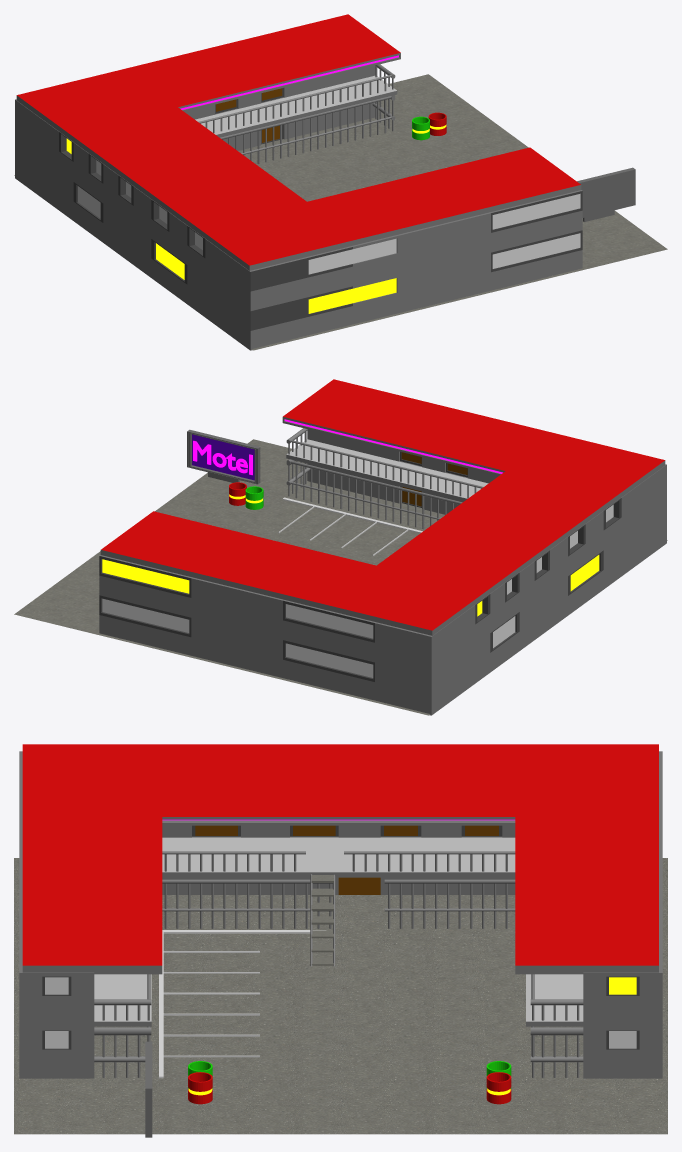
3 views of the same model, one above another, from view 1: azimuth 30°, elevation 25°; view 2: azimuth 150°, elevation 25°; view 3: azimuth 270°, elevation 25° (orthographic). The views are drawn at different scales.
Parts seen in each view (by area): view 1: motel_8, PISO_5, Cube.002_3, cerca.002_1, cerca.001_0, trash_cubet_7; view 2: motel_8, PISO_5, Cube.002_3, cerca.002_1, cerca.001_0, parqueadero_4, trash_cubet_7, Text_2; view 3: motel_8, PISO_5, cerca.002_1, cerca.001_0, parqueadero_4, trash_cubet_7, Cube.002_3, principal_door_6.
Boxes of the visible parts, box(x1,y1,x2,y2) form: motel_8: box(15, 14, 582, 350); PISO_5: box(14, 74, 667, 350); Cube.002_3: box(577, 167, 635, 222); cerca.002_1: box(220, 95, 395, 152); cerca.001_0: box(241, 102, 395, 164); trash_cubet_7: box(412, 112, 446, 140); motel_8: box(99, 379, 666, 715); PISO_5: box(14, 439, 667, 715); Cube.002_3: box(187, 429, 260, 484); cerca.002_1: box(286, 459, 462, 517); cerca.001_0: box(286, 467, 440, 529); parqueadero_4: box(278, 497, 422, 555); trash_cubet_7: box(229, 482, 263, 509); Text_2: box(193, 440, 252, 475); motel_8: box(19, 744, 662, 1078); PISO_5: box(14, 858, 667, 1134); cerca.002_1: box(94, 879, 583, 1057); cerca.001_0: box(94, 908, 583, 1077); parqueadero_4: box(159, 930, 325, 1078); trash_cubet_7: box(188, 1061, 511, 1104); Cube.002_3: box(145, 1041, 152, 1137); principal_door_6: box(338, 877, 380, 894).
Size of the model in its own units: 14.84 by 2.85 by 14.27.
